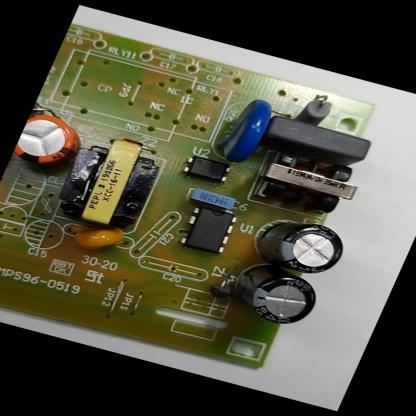Cap1: (7, 106, 94, 182)
Cap3: (238, 206, 356, 282)
Cap4: (213, 255, 331, 336)
MOSFET: (168, 197, 250, 262)
Mov: (209, 90, 282, 169)
Resistor: (286, 87, 344, 129)
Transformer: (40, 122, 180, 242), (243, 140, 371, 227)
